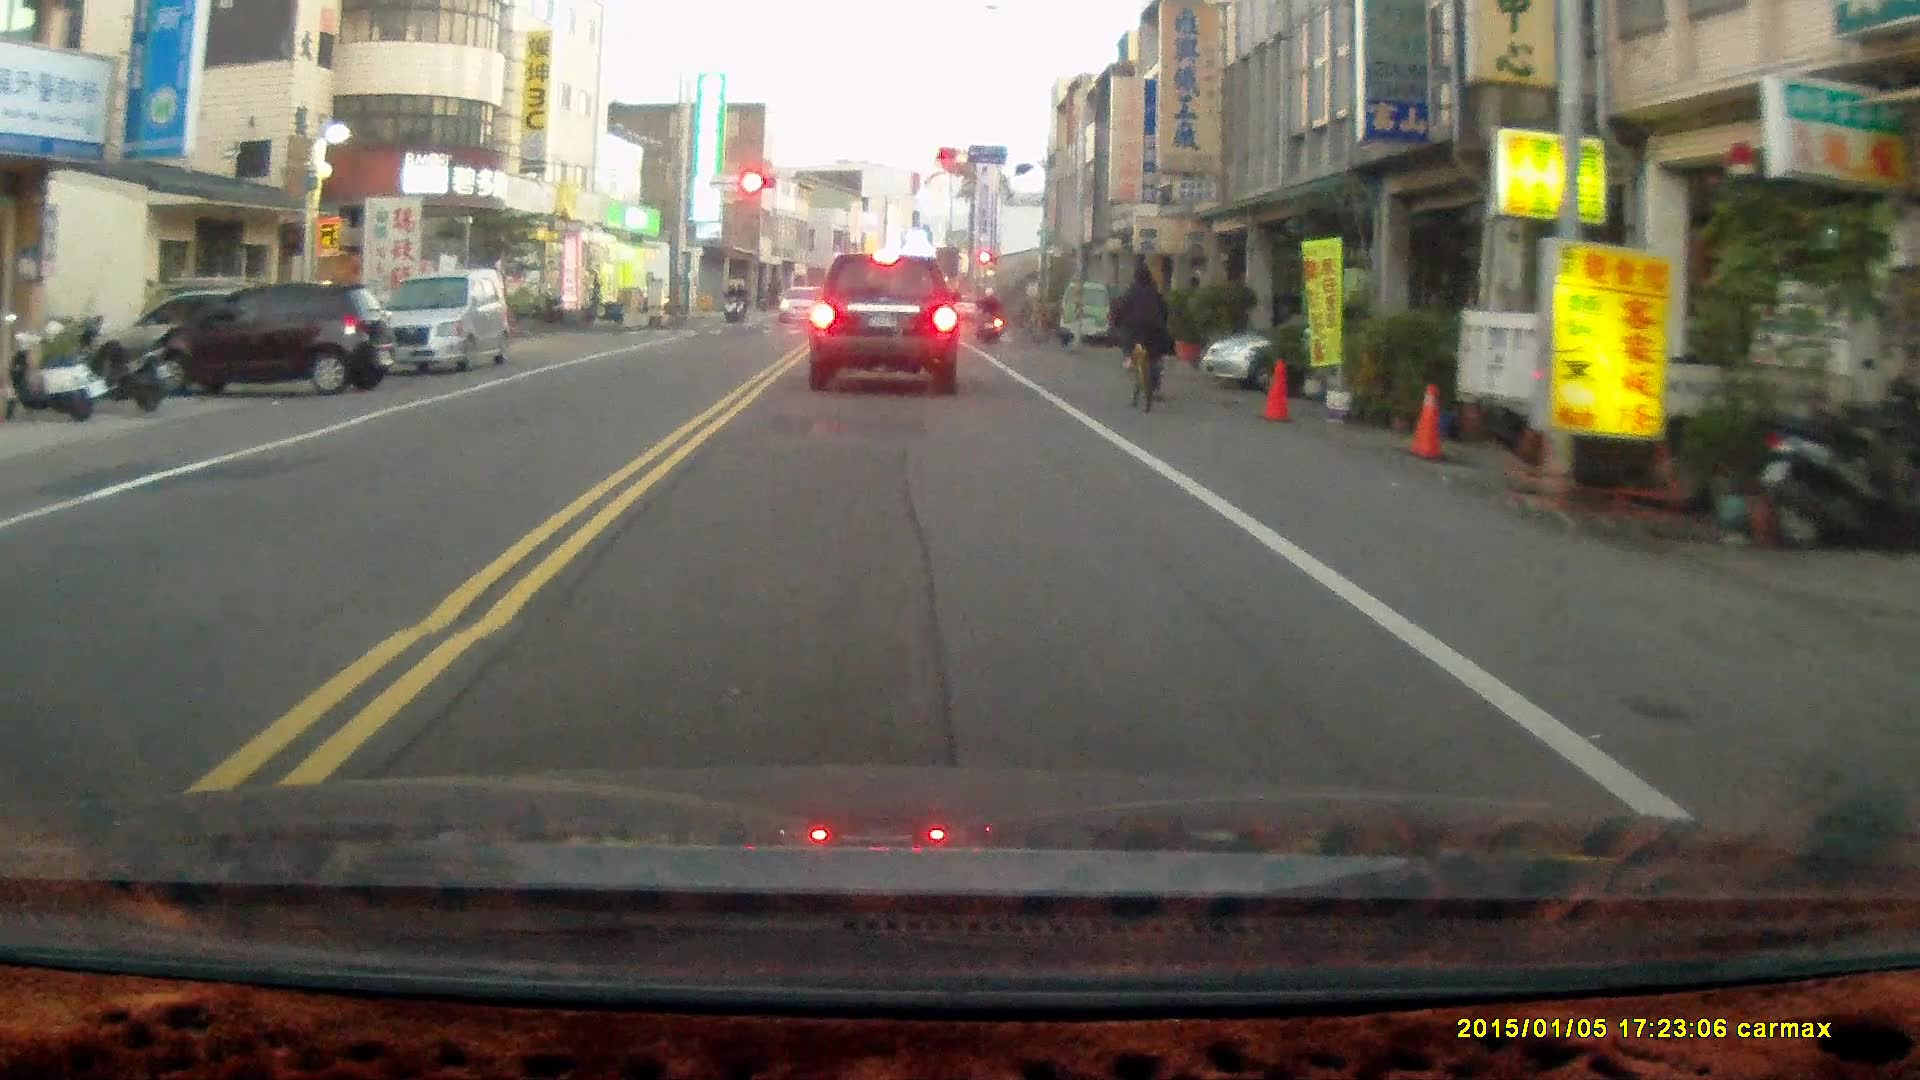rider: (1112, 262, 1171, 414), (972, 283, 1002, 345), (719, 279, 742, 324)
vehicle: (154, 277, 392, 397), (804, 253, 965, 399), (1200, 311, 1448, 395), (359, 273, 508, 377)
